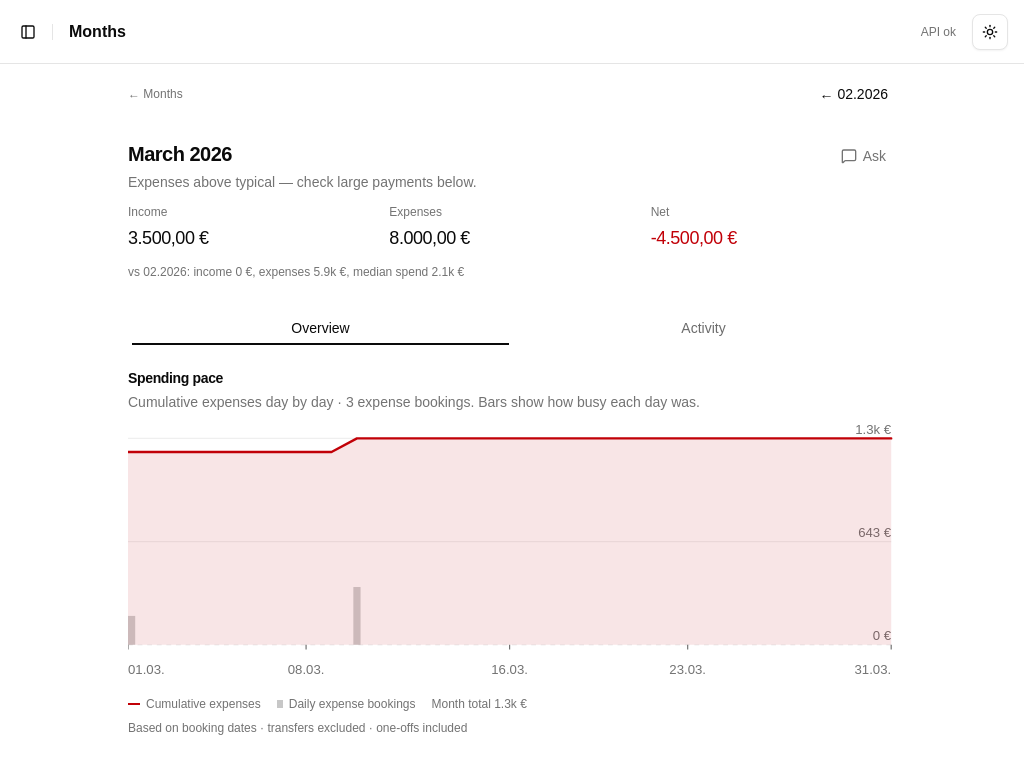
Test: Baseline month page › loads Activity payments via tab and deep link
Check: the heading "March 2026" is shown, box top-left (128, 143), bottom-right (232, 165)
Click the tab "Activity".
click(704, 328)  # box top-left (514, 316), bottom-right (893, 340)
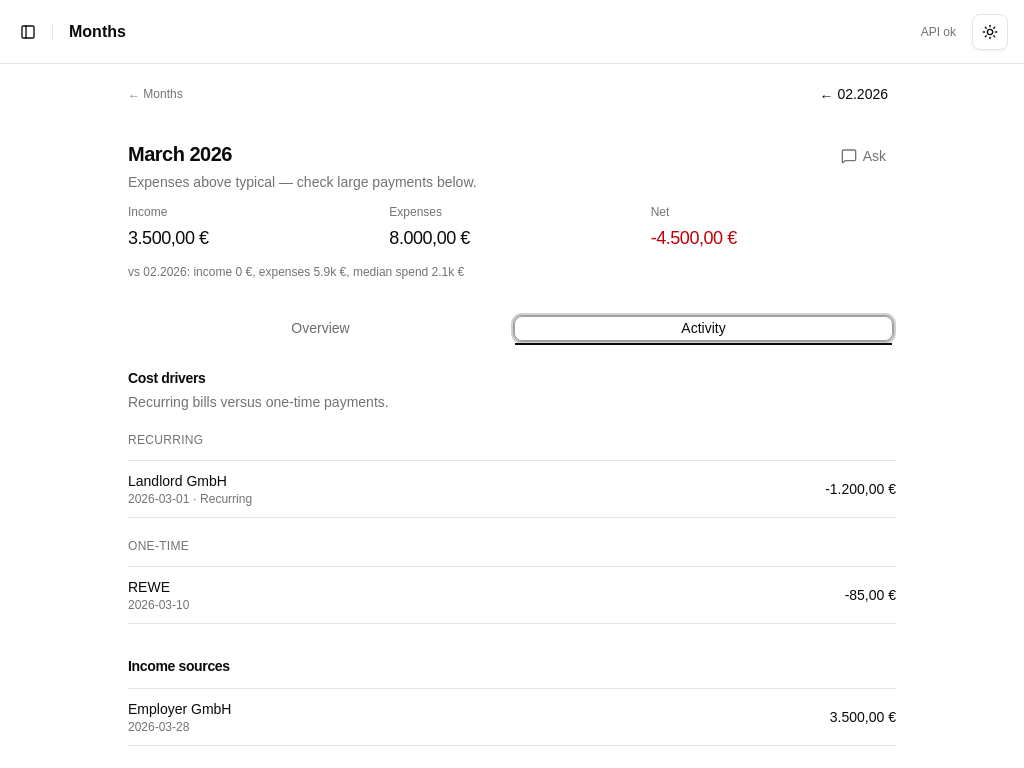
Check: the heading "Cost drivers" is shown, box top-left (128, 370), bottom-right (206, 386)
Check: the heading "Recurring" is shown, box top-left (128, 433), bottom-right (203, 447)
Check: the heading "One-time" is shown, box top-left (128, 539), bottom-right (189, 553)
Click the button "Landlord GmbH 2026-03-01 · Recurring -1.200,00 €".
click(177, 481)  # box top-left (128, 461), bottom-right (896, 517)
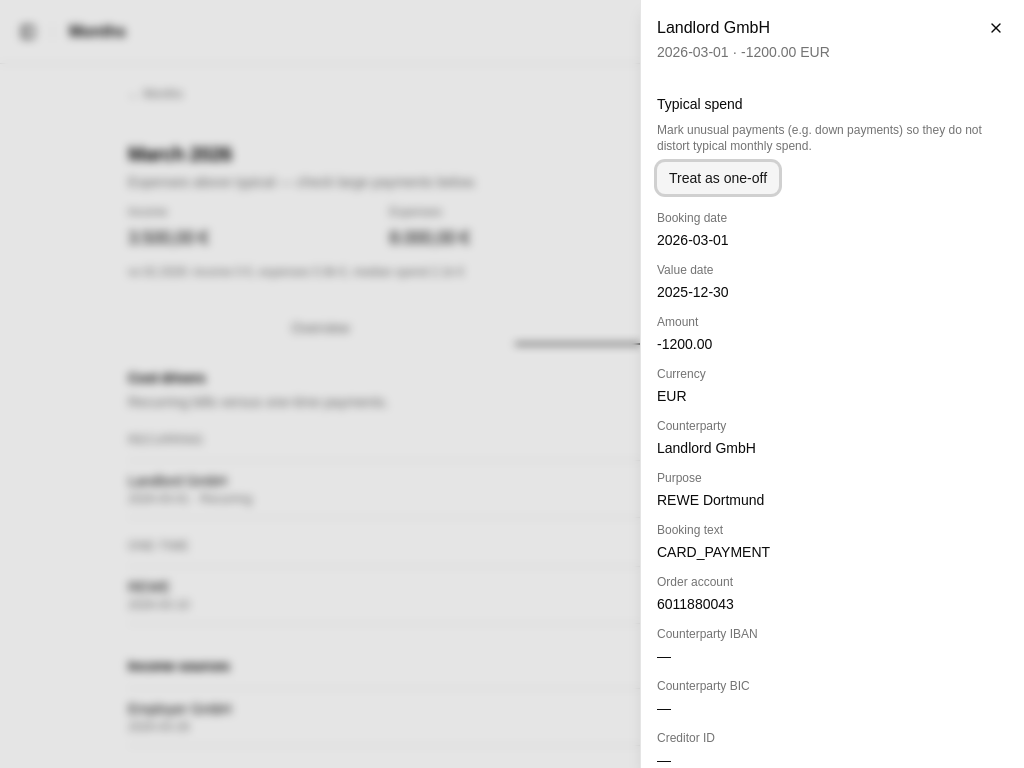
Check: the button "Treat as one-off" is shown, box top-left (657, 162), bottom-right (779, 194)
